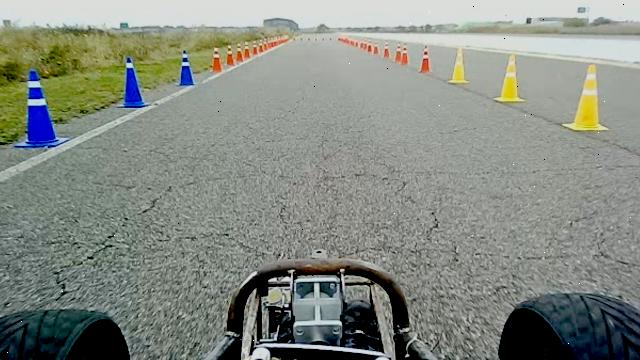blue cone: (14, 68, 70, 148), (116, 56, 148, 108), (176, 49, 196, 87)
red cone: (418, 44, 433, 73), (210, 46, 223, 73), (225, 44, 236, 66), (399, 43, 410, 65), (394, 42, 403, 63), (235, 43, 244, 63), (382, 40, 391, 60), (243, 41, 252, 59)
yellow cone: (561, 63, 610, 132), (492, 53, 526, 103), (447, 46, 470, 84)
